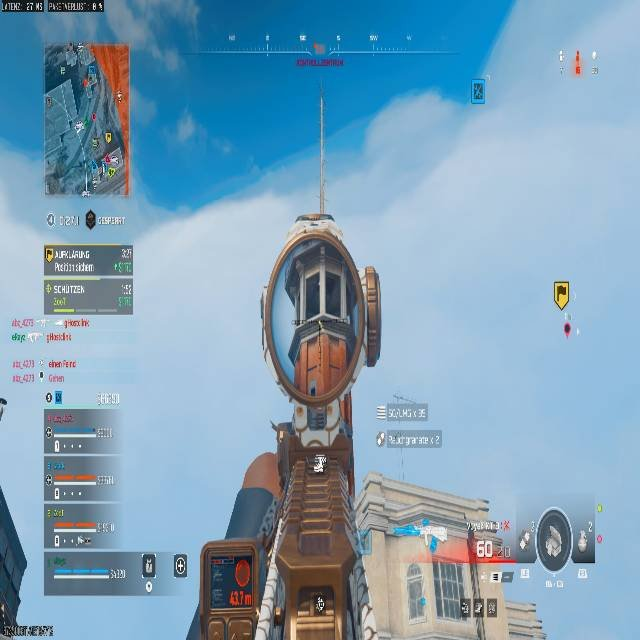head: (260, 214, 379, 409)
player: (213, 186, 386, 640)
